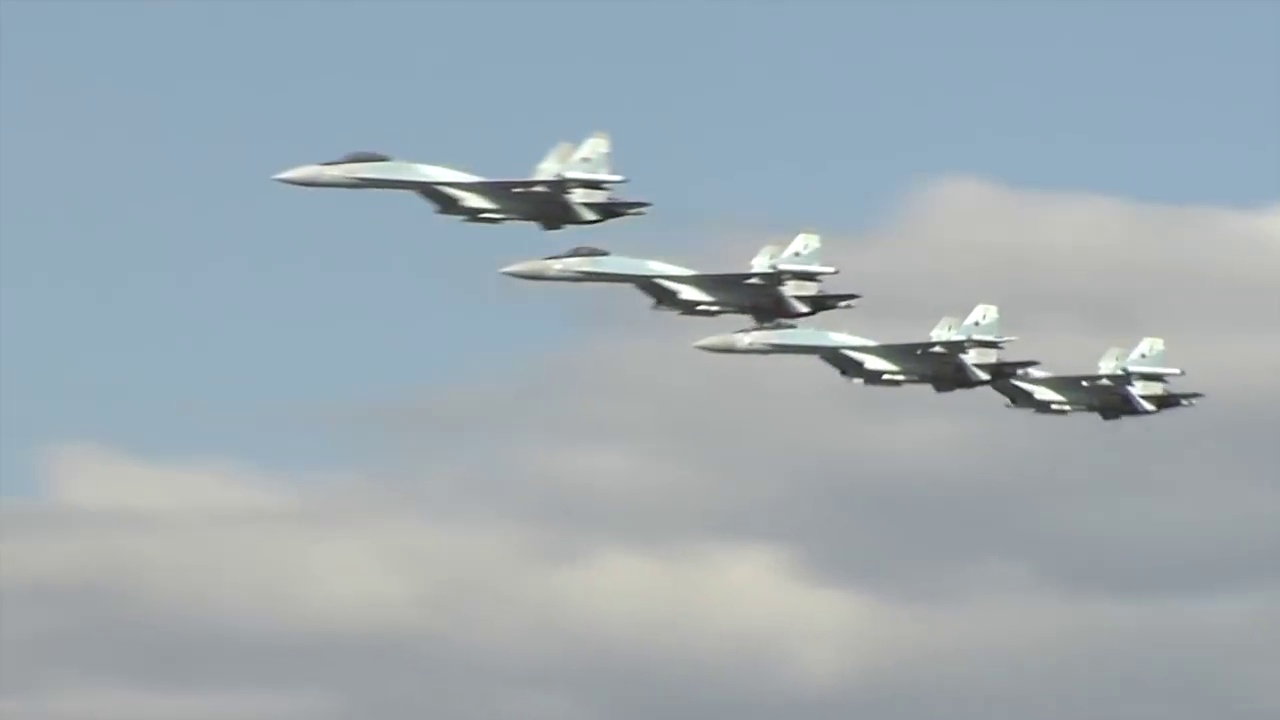Su35: (262, 123, 659, 236), (489, 227, 874, 329), (688, 297, 1042, 399), (967, 332, 1211, 429)
